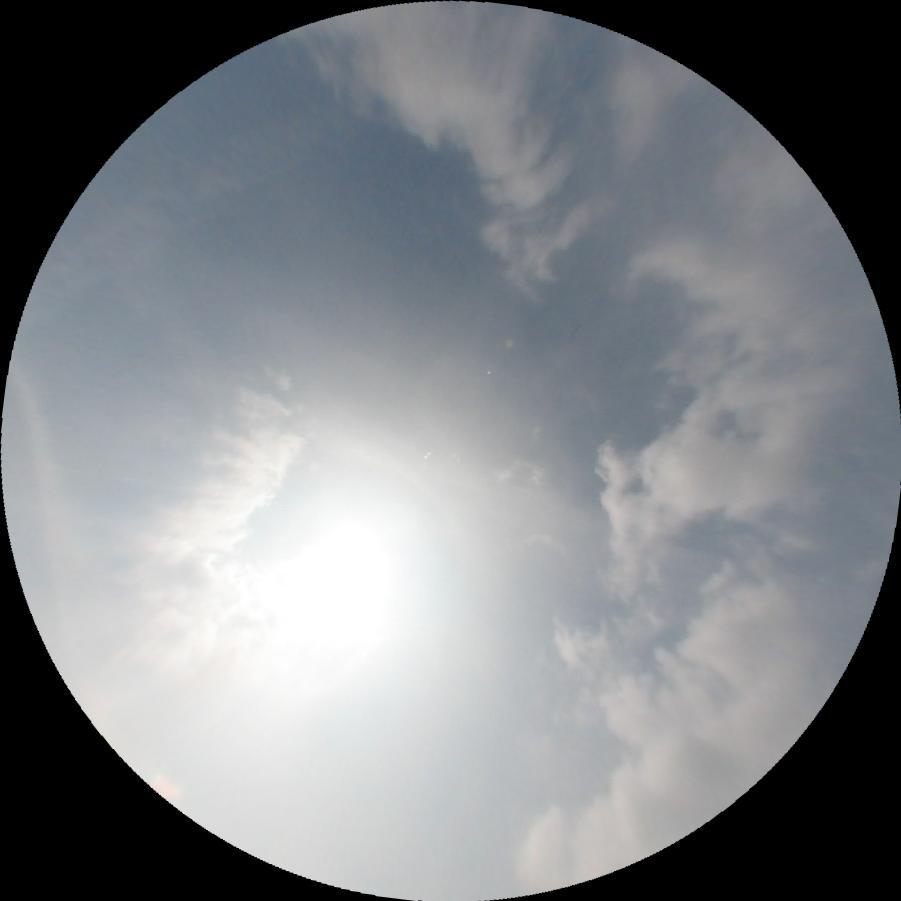sun: (316, 483, 457, 634)
